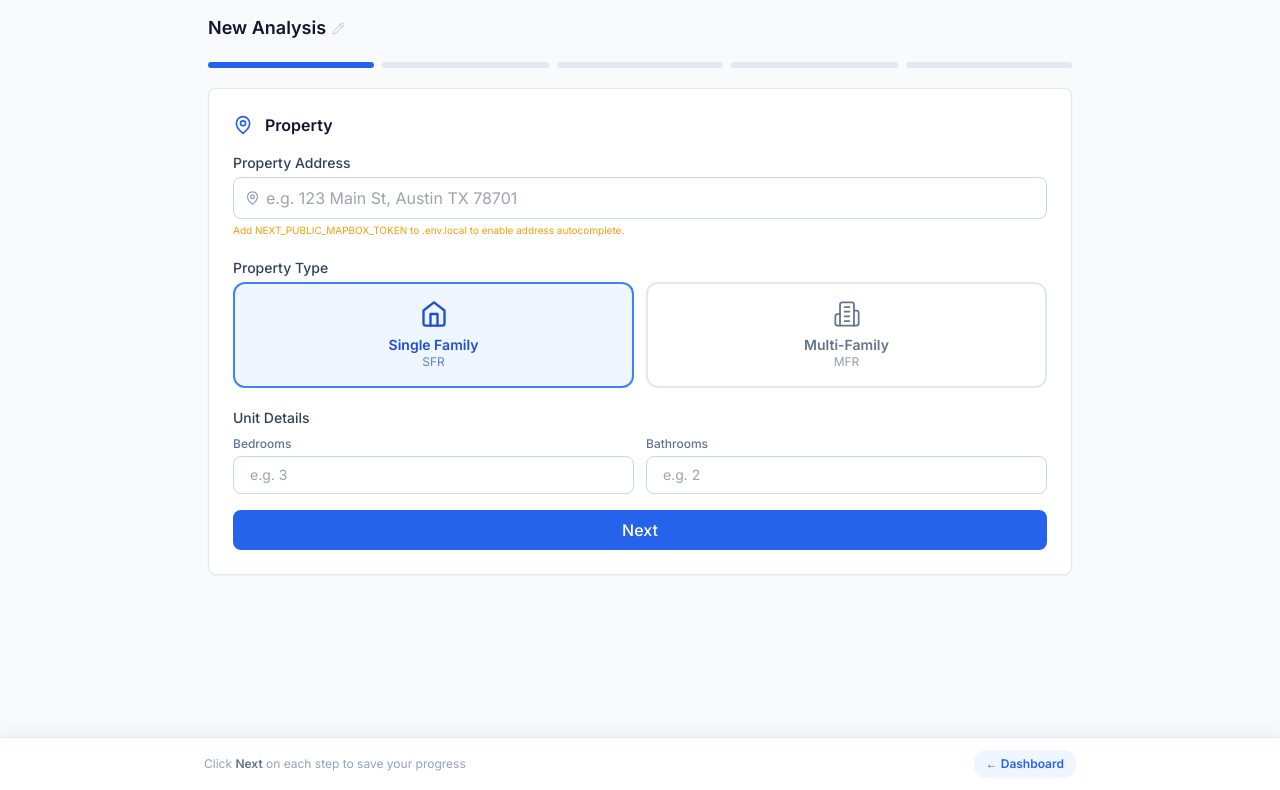
Scenario: DealAnalyzerForm step warnings › step 1 summary bar shows warning icon when purchase price and down payment are missing
Type "10 Oak Ave" into the field with placeholder "e.g. 123 Main St, Austin TX 78701".
click(640, 198); type("10 Oak Ave")  # box [233,177,1047,219]
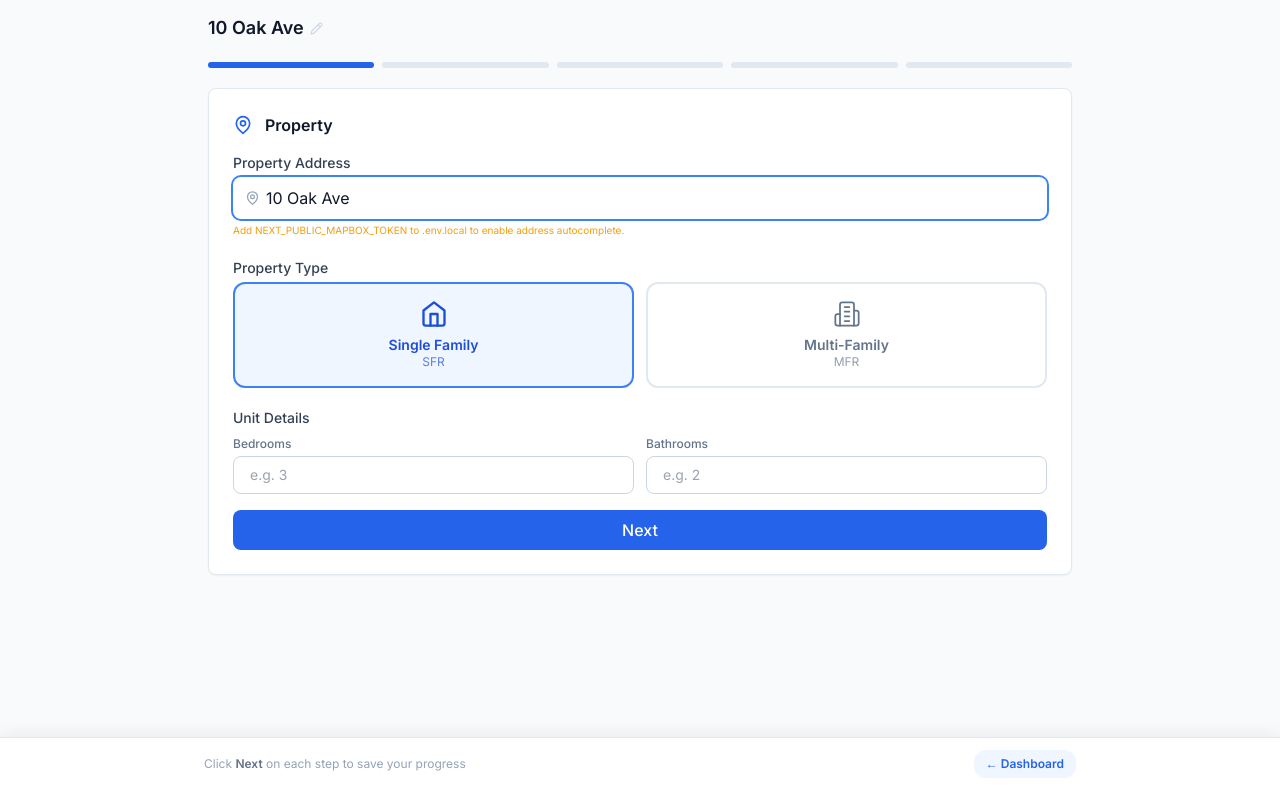
Click the button with test id "header-next-btn".
click(640, 530)  # box [233,510,1047,550]
(page scrolled)
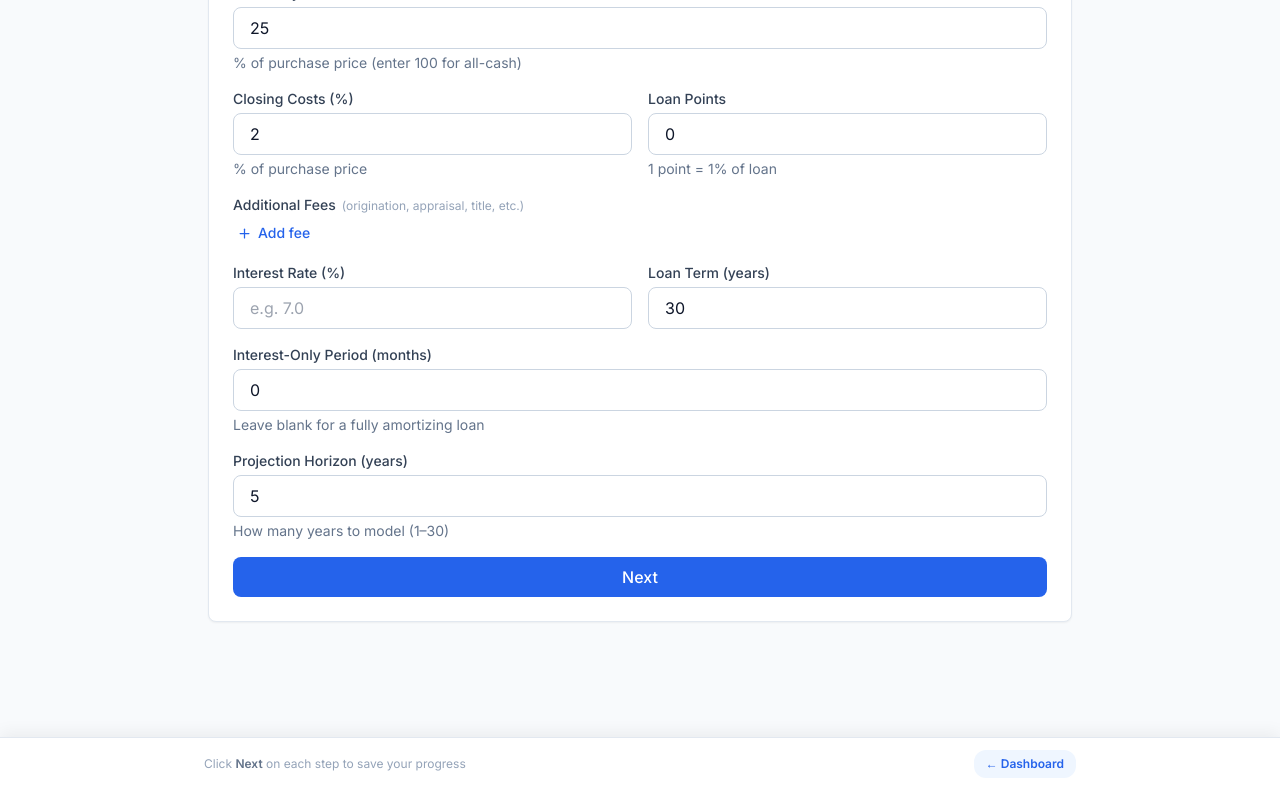
Click the button with test id "header-next-btn".
click(640, 577)  # box [233,557,1047,597]
(page scrolled)
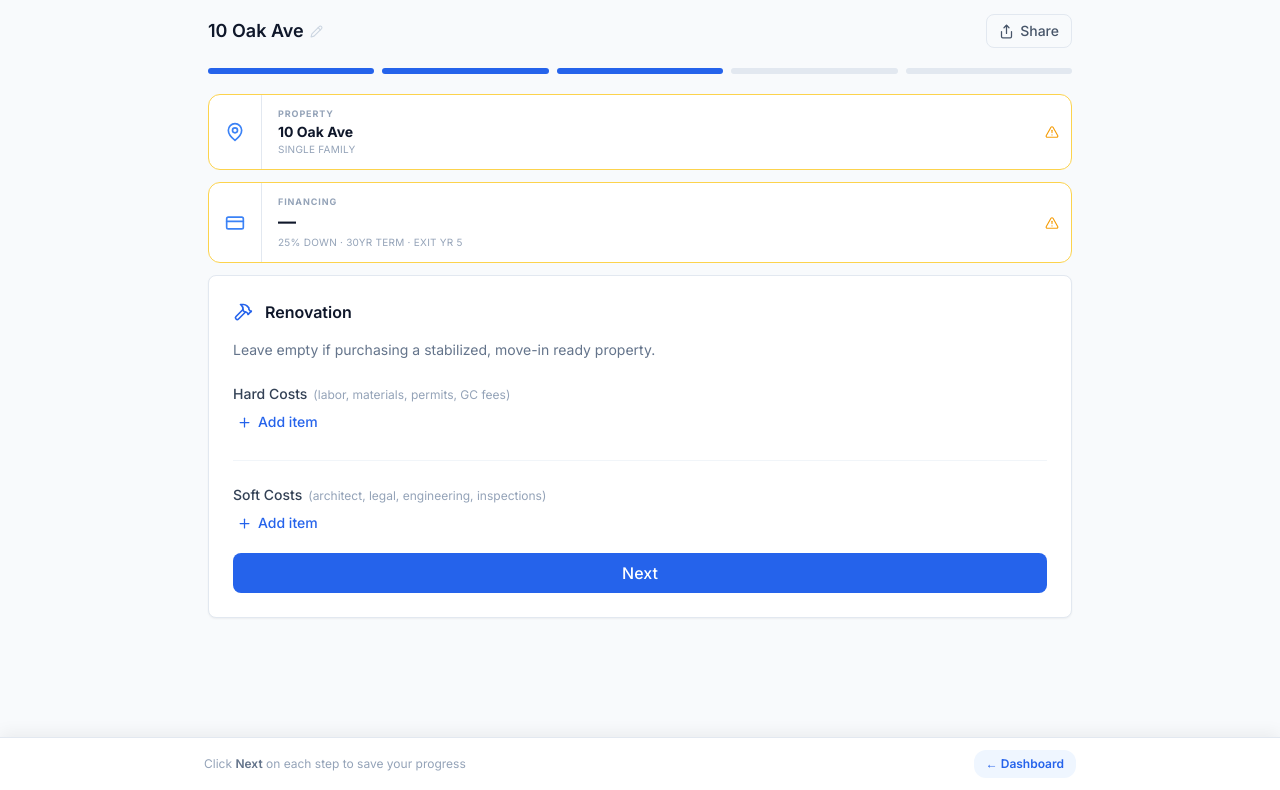
Expected: the element with test id "step-warning-1" is shown, [1045,216,1059,230]
